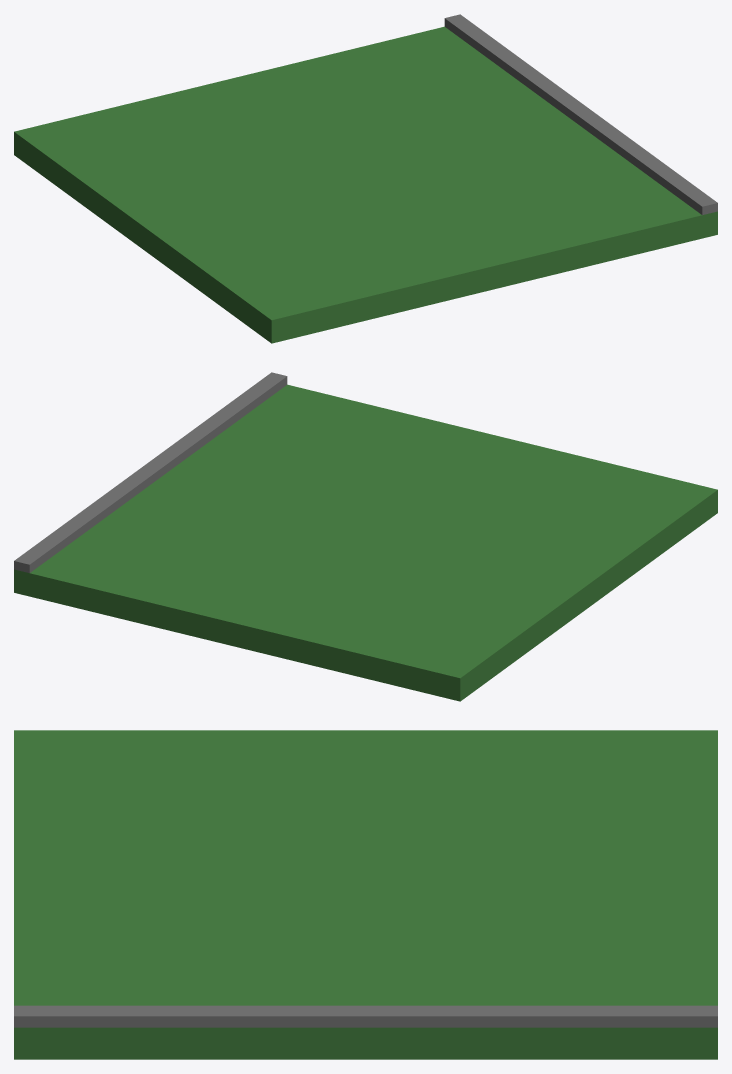
File: SM_Factory_Grass_02.glb
3 renders of one model, top to bottom at view 1: azimuth 30°, elevation 25°; view 2: azimuth 150°, elevation 25°; view 3: azimuth 270°, elevation 25°, orthographic. The views are drawn at different scales.
Visible parts, largest first — view 1: SM_Factory_Grass_02; view 2: SM_Factory_Grass_02; view 3: SM_Factory_Grass_02.
Boxes of the visible parts, box(x1,y1,x2,y2) form: SM_Factory_Grass_02: box(14, 14, 717, 343); SM_Factory_Grass_02: box(14, 372, 717, 701); SM_Factory_Grass_02: box(14, 730, 717, 1059).
Bounding box in the file's own units: 5 × 0.3407 × 5.
1 material, 1 textured.
